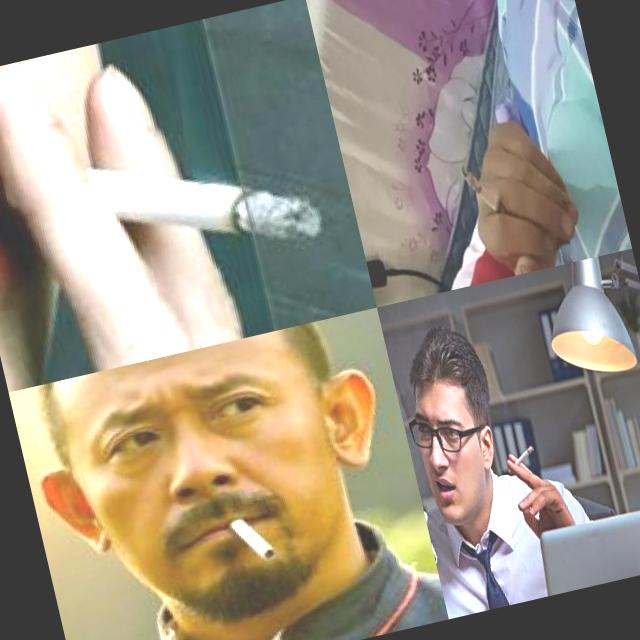smoke: (0, 102, 326, 307), (228, 498, 290, 566), (458, 157, 514, 230), (502, 442, 538, 476)
